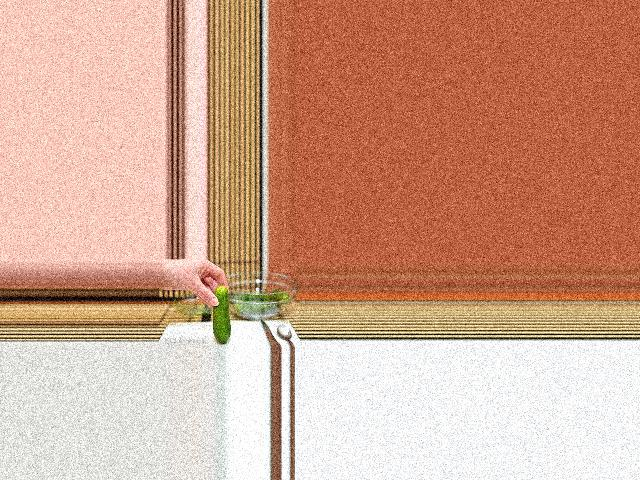cucumber: (212, 286, 230, 344)
